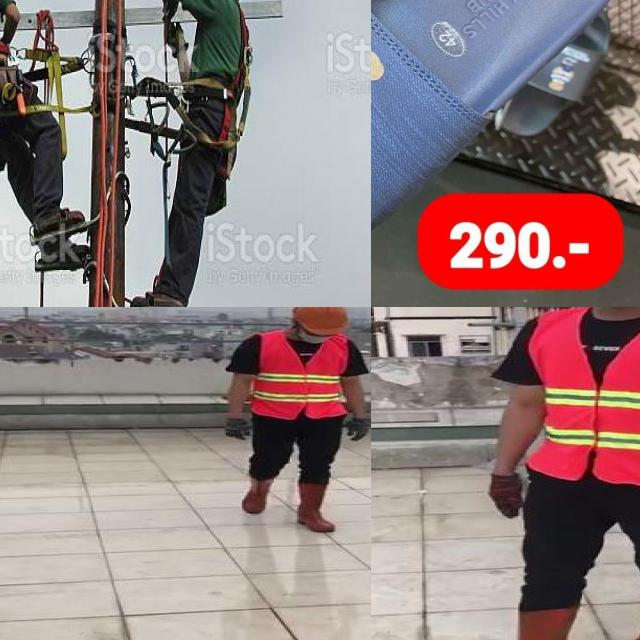Harness: (23, 10, 91, 156), (218, 7, 253, 150)
Sandals: (371, 0, 635, 277)
boots: (484, 608, 578, 640), (592, 595, 640, 640), (295, 483, 338, 533), (242, 472, 274, 516)
hand_glove: (488, 475, 525, 519), (222, 417, 252, 441), (345, 418, 370, 441)
person: (463, 307, 640, 640), (289, 307, 351, 336)
vest: (525, 307, 640, 485), (252, 331, 348, 420)
